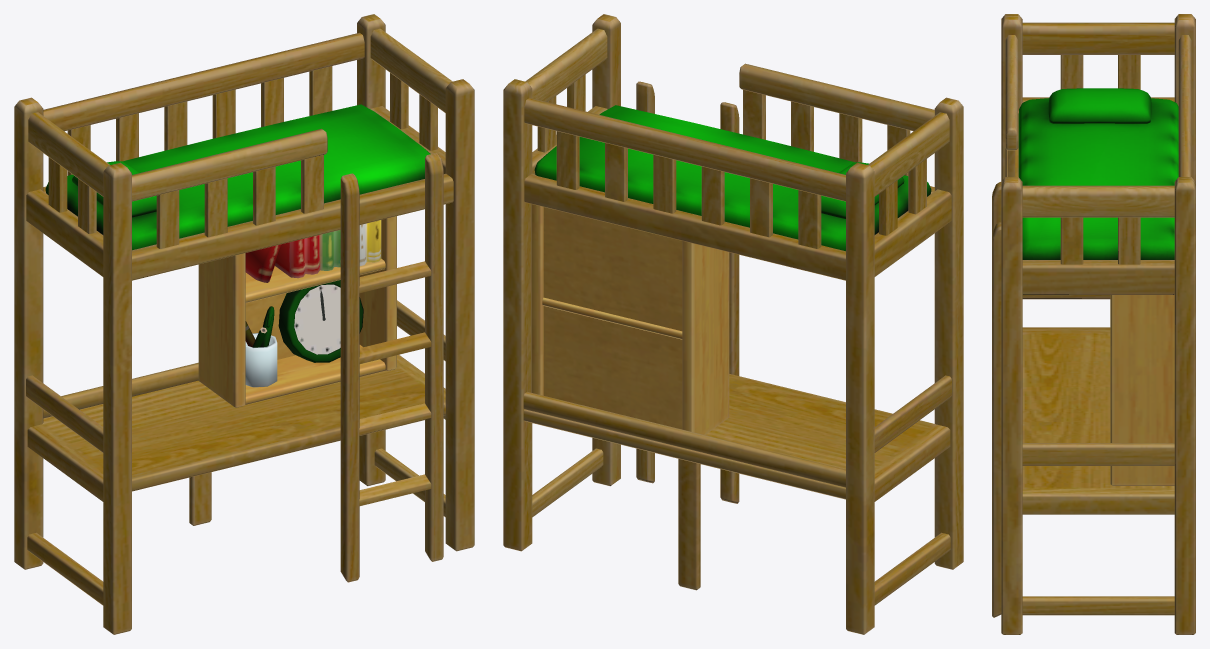
3 renders of one model, left to right at view 1: azimuth 30°, elevation 25°; view 2: azimuth 150°, elevation 25°; view 3: azimuth 270°, elevation 25°, orthographic. The views are drawn at different scales.
Visible parts, largest first — view 1: HourHand_low__mReBody, clock_low__mReFabric; view 2: HourHand_low__mReBody, clock_low__mReFabric; view 3: HourHand_low__mReBody, clock_low__mReFabric.
Boxes of the visible parts, x1,y1,x2,y2 form: HourHand_low__mReBody: (14,14,474,634); clock_low__mReFabric: (45,104,430,362); HourHand_low__mReBody: (503,14,963,634); clock_low__mReFabric: (534,105,931,251); HourHand_low__mReBody: (992,14,1195,634); clock_low__mReFabric: (1018,88,1178,259).
Bounding box in the file's own units: 1995 × 2435 × 997.
Materials: 2 (2 with a texture image).
